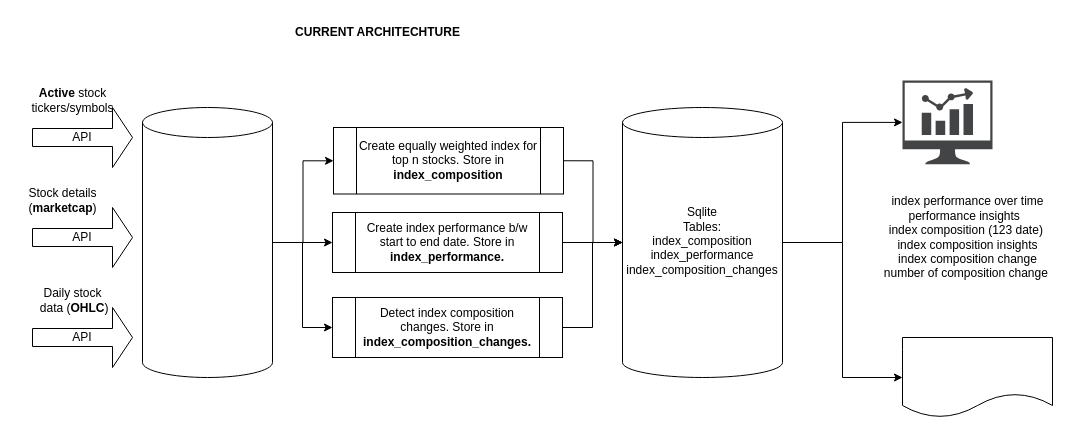
Some shapes in this 1079 by 435 pixel diagram are drawn without their labels. The centre of each missing label's shape, as x and y in pixels:
"Export index_performance.csv index_composition.csv" belongs at point (977, 377).
"Sqlite Tables: ticker_details stock_prices" belongs at point (207, 242).
